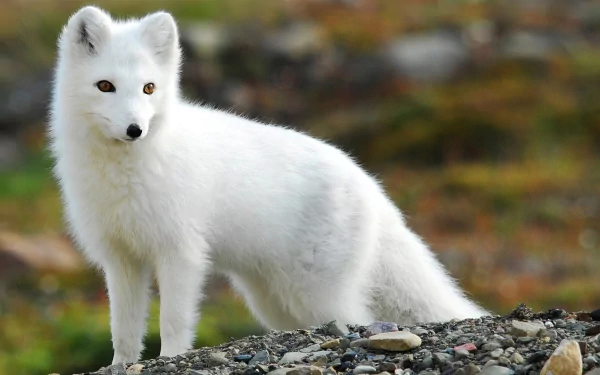arcticfox: (82, 36, 171, 165)
